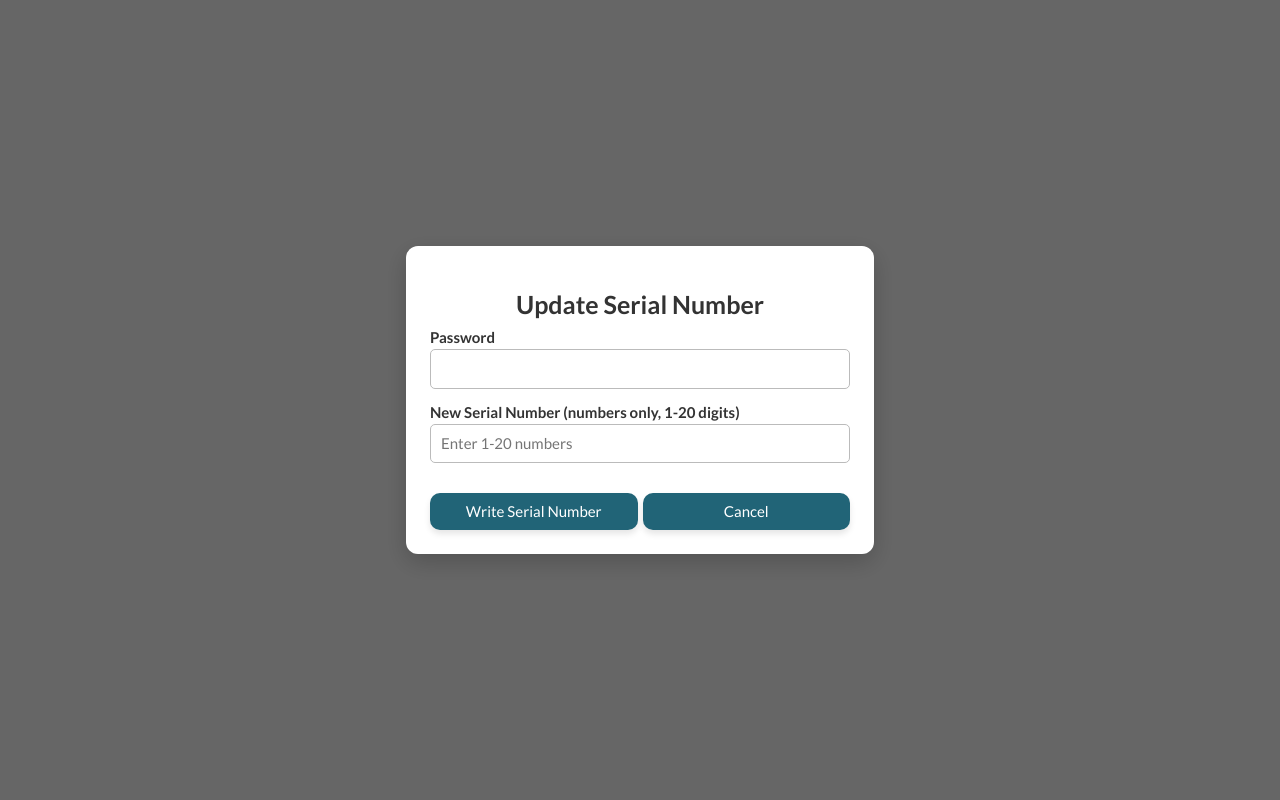
Scenario: SerialNumberModal › shows error when password is missing
Click the button "Write Serial Number" at (534, 512), box [430,493,638,530]
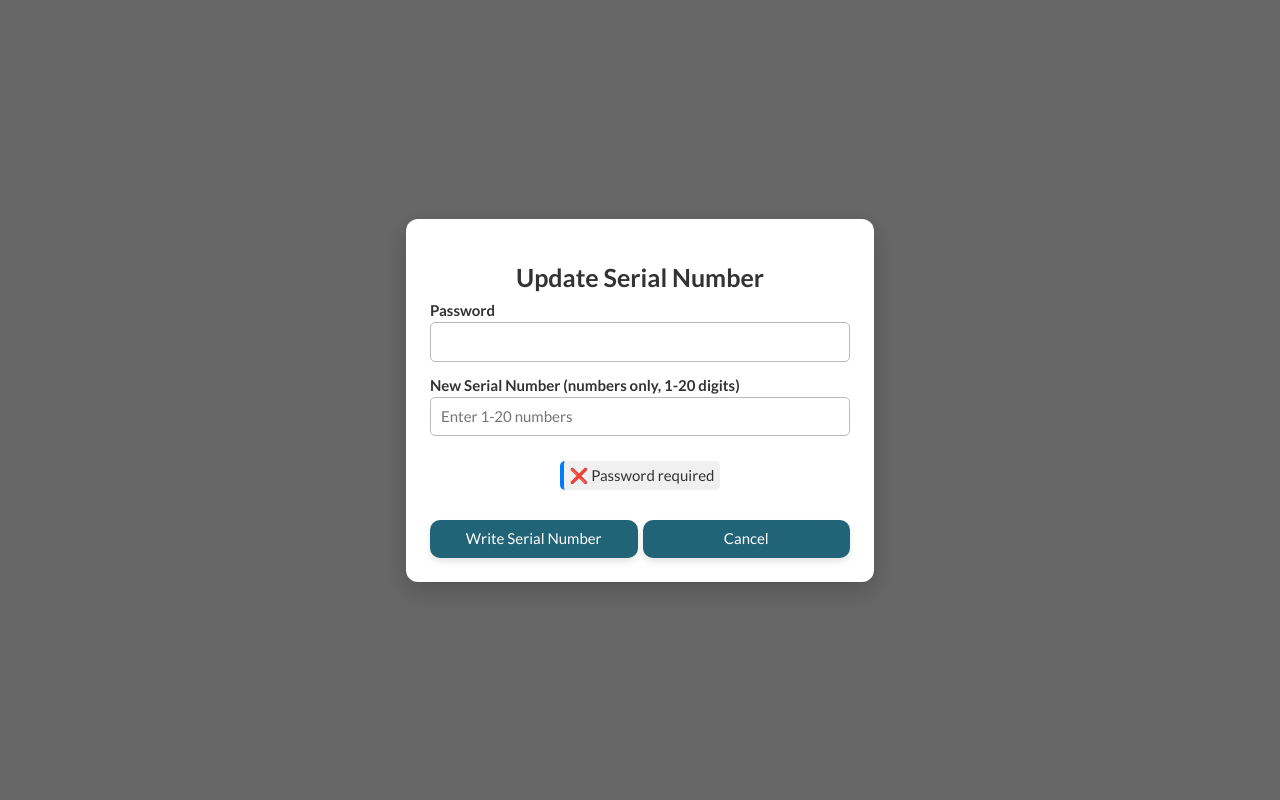
Expected: the text "❌ Password required" is shown, [560,461,720,490]
